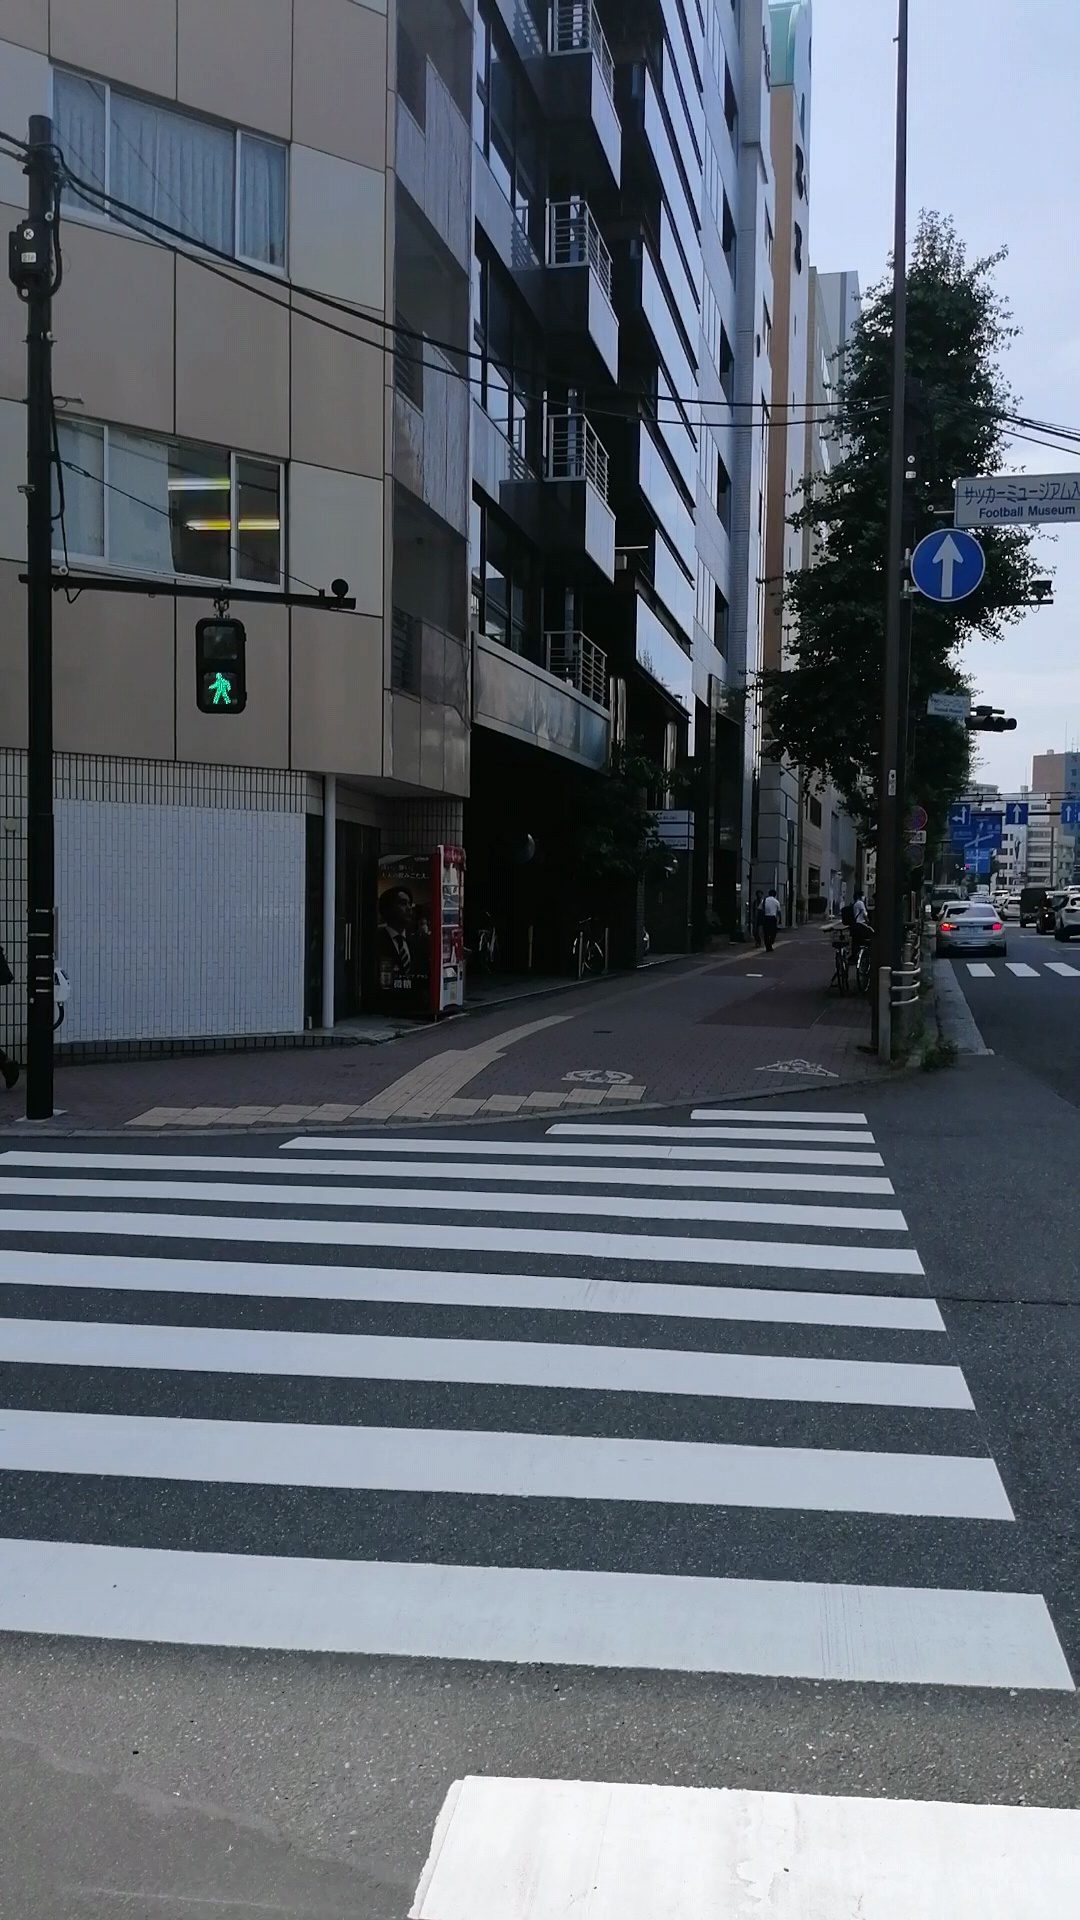green: (194, 616, 249, 715)
